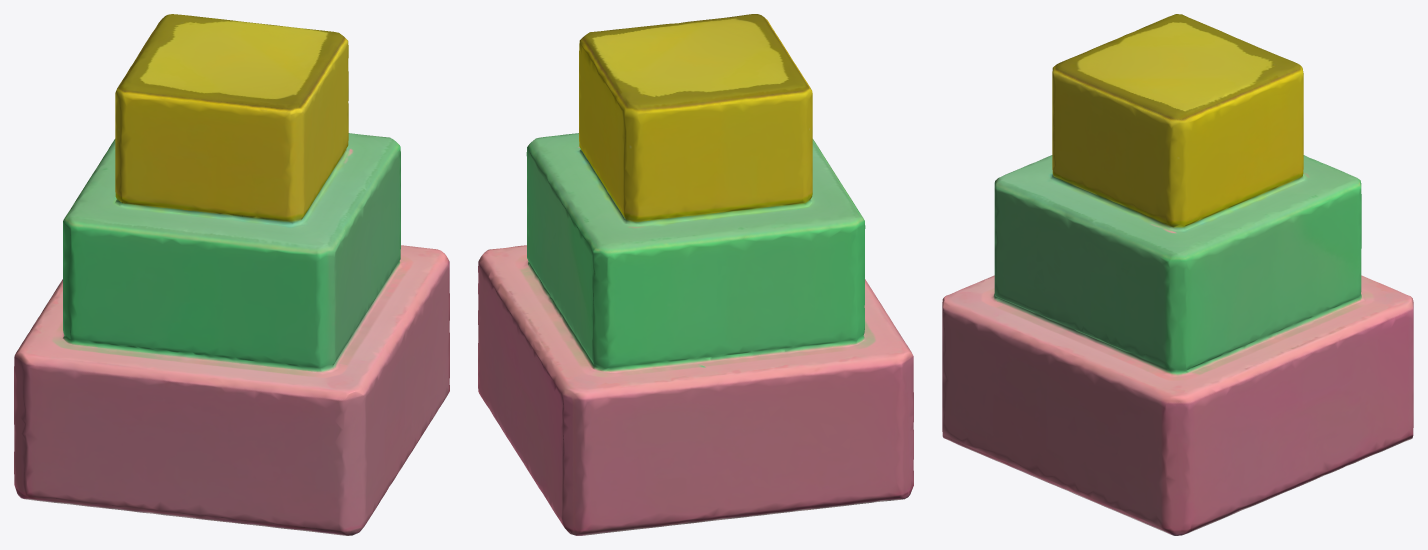
Rendered from GiantCake.glb.
3 views of the same model, side by side, from view 1: azimuth 30°, elevation 25°; view 2: azimuth 150°, elevation 25°; view 3: azimuth 270°, elevation 25° (orthographic). The views are drawn at different scales.
Visible parts, largest first — view 1: input; view 2: input; view 3: input.
Boxes of the visible parts, x1,y1,x2,y2 form: input: (14,14,449,535); input: (478,14,913,535); input: (942,14,1413,535).
Bounding box in the file's own units: 13.71 × 12 × 13.71.
Materials: 1 (1 with a texture image).
